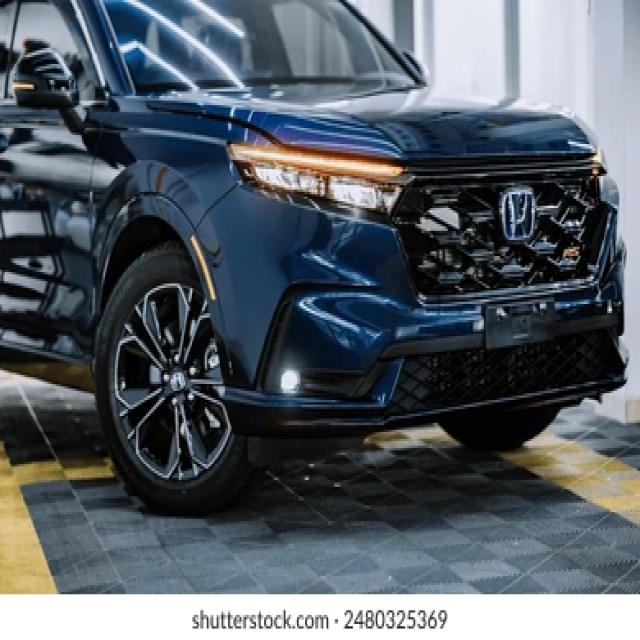honda: (501, 190, 536, 240)
